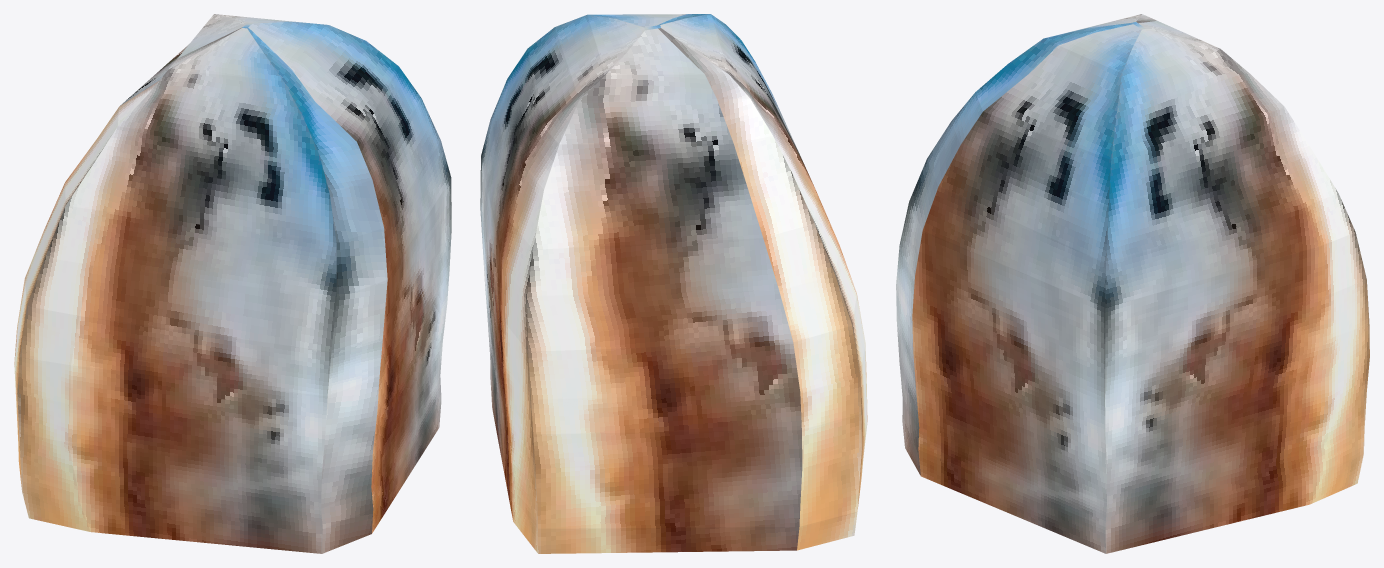
The picture shows the model from 3 angles, left to right: view 1: azimuth 30°, elevation 25°; view 2: azimuth 150°, elevation 25°; view 3: azimuth 270°, elevation 25°; orthographic projection.
Parts seen in each view (by area): view 1: SPLICE_2.005; view 2: SPLICE_2.005; view 3: SPLICE_2.005.
Boxes of the visible parts, x1,y1,x2,y2 form: SPLICE_2.005: (14,14,451,553); SPLICE_2.005: (480,14,867,553); SPLICE_2.005: (896,14,1369,553).
Bounding box in the file's own units: 1.5 × 1.58 × 1.48.
1 material, 1 textured.
